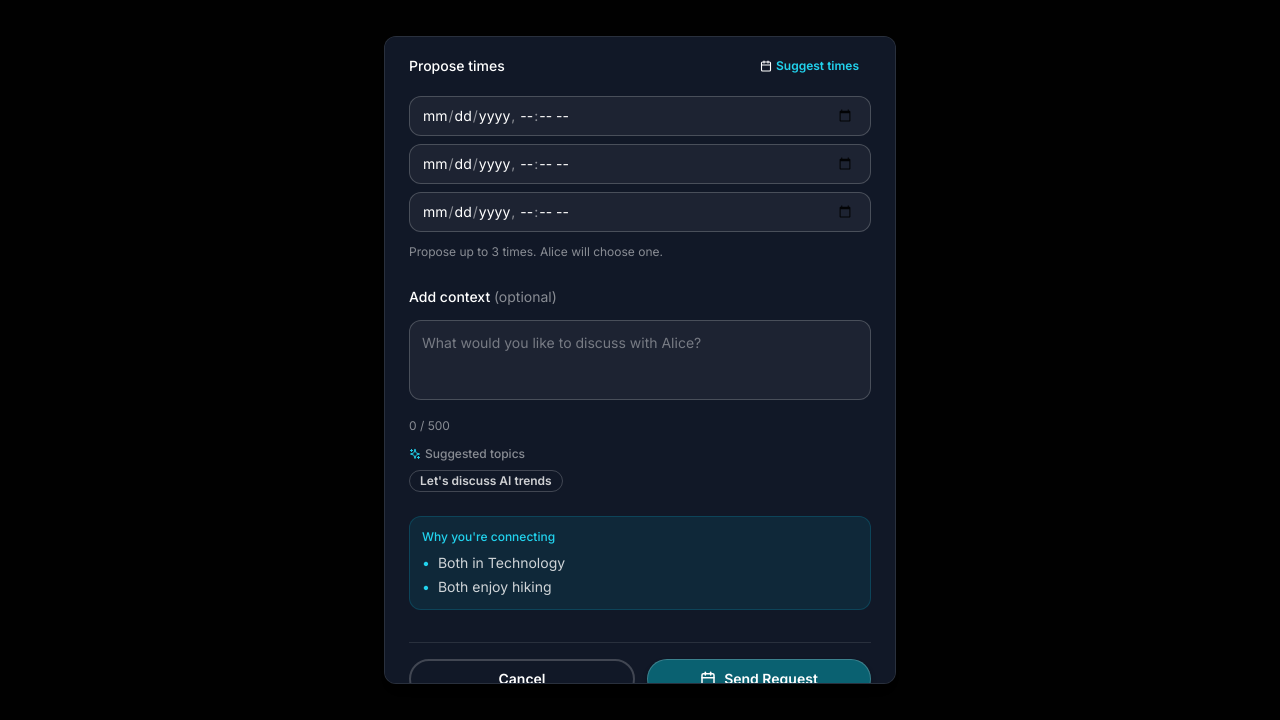
Test: MeetingRequestModal › should display character count
The image size is (1280, 720).
(page scrolled)
Type "Hello" into the text box with placeholder "What would you like to discuss with Alice?" at point(640, 360), box [409,320,871,400]
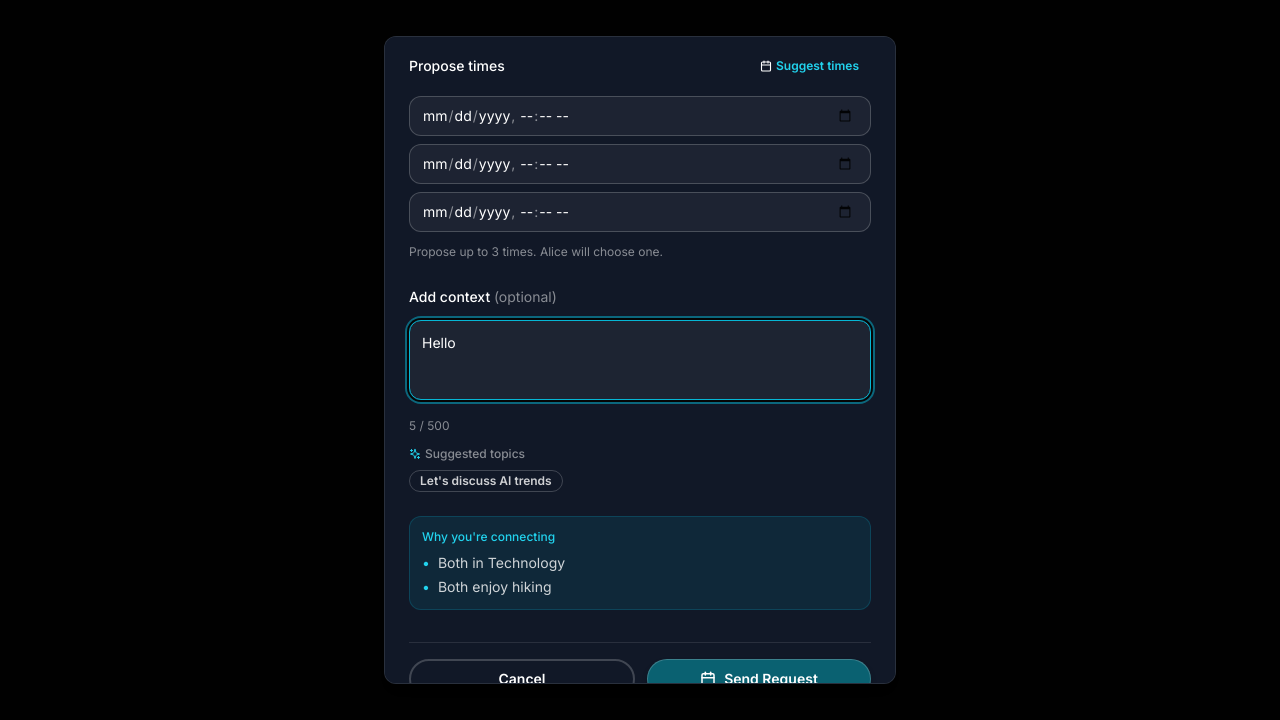
Now the text "5 / 500" is shown, box [409,418,450,434]
